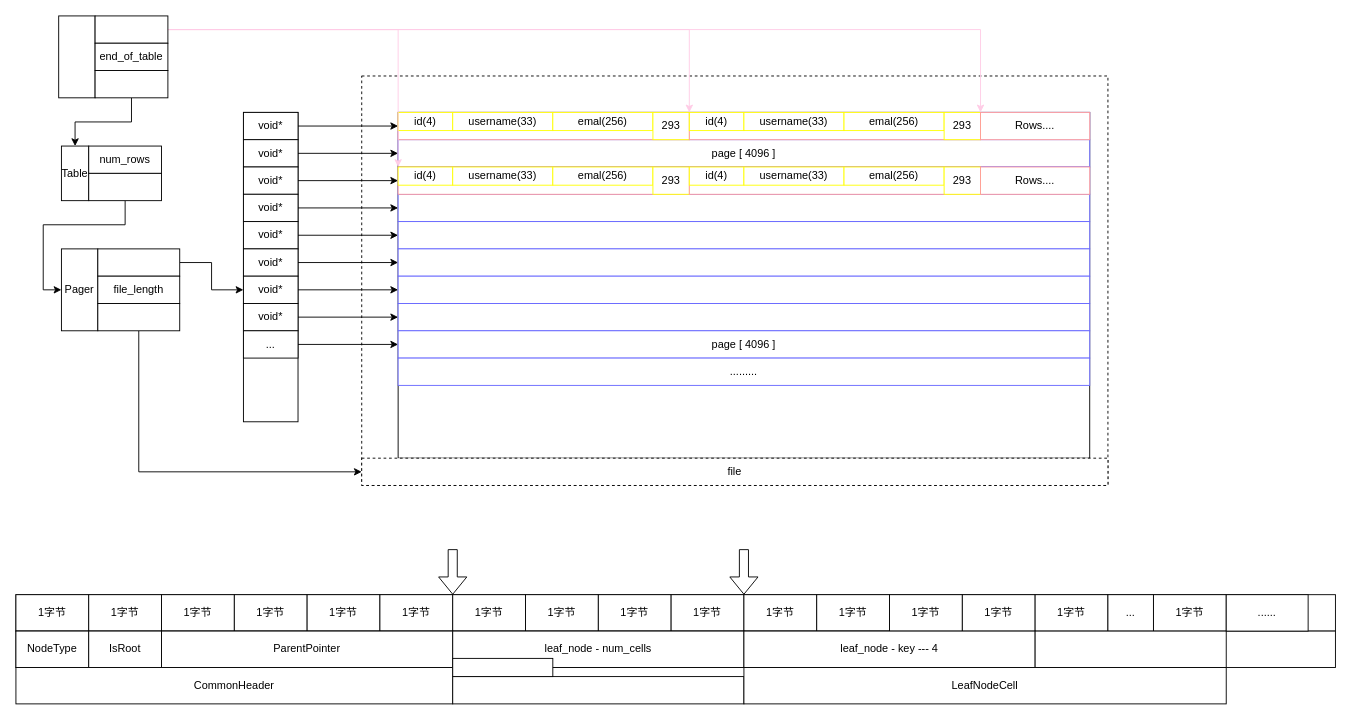
Image size: 1351x720. Some labels were removed from this diagram. Here are the shapes that lost their labels. From the top down, the centre of each, then its label:
At pixel 131 29: "row_num".
At pixel 76 56: "Cursor".
At pixel 131 84: "Table*".
At pixel 125 186: "Pager*".
At pixel 138 262: "page[void*]".
At pixel 138 317: "file_discriptor".
At pixel 502 667: "num_cells_offset".
At pixel 1130 648: "leaf_node - value ---- 293".
At pixel 598 690: "LeafNodeHeader".
